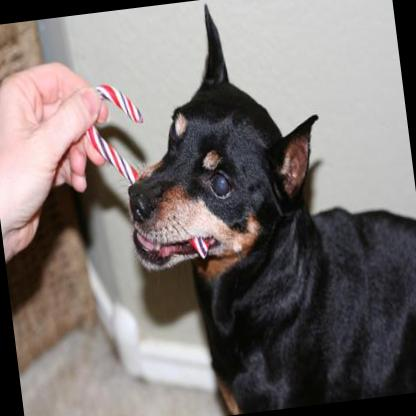miniature_pinscher: (103, 0, 416, 416)
